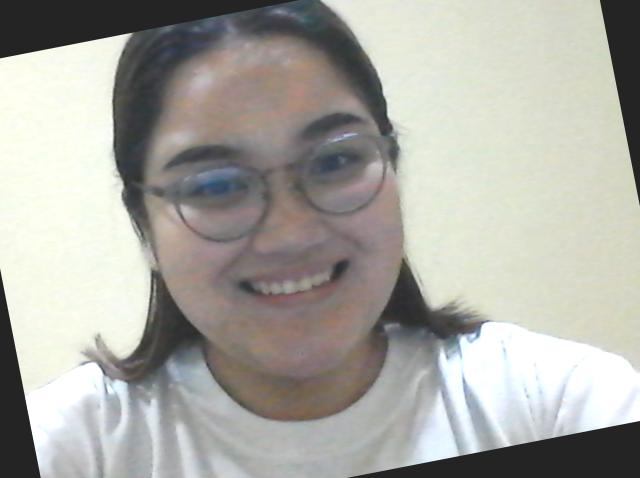senang: (117, 18, 437, 396)
